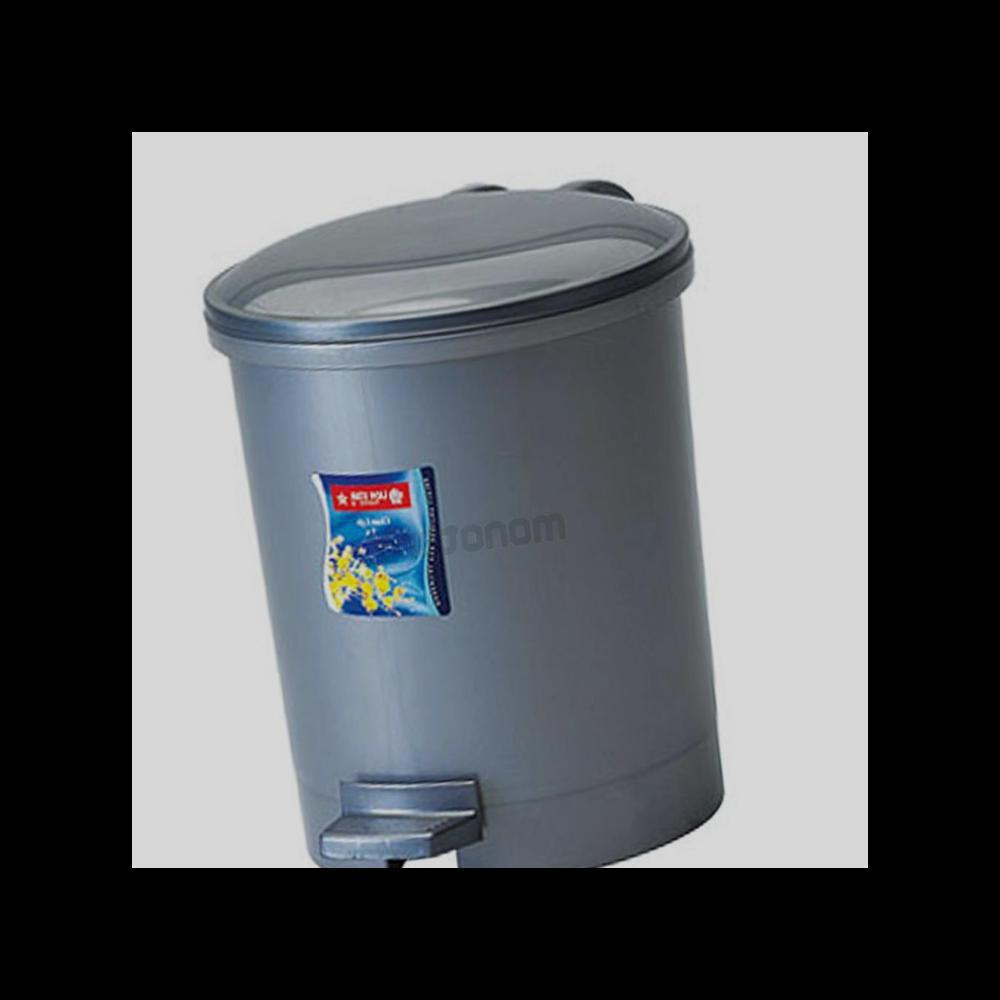Bote de Basura: (213, 181, 726, 868)
